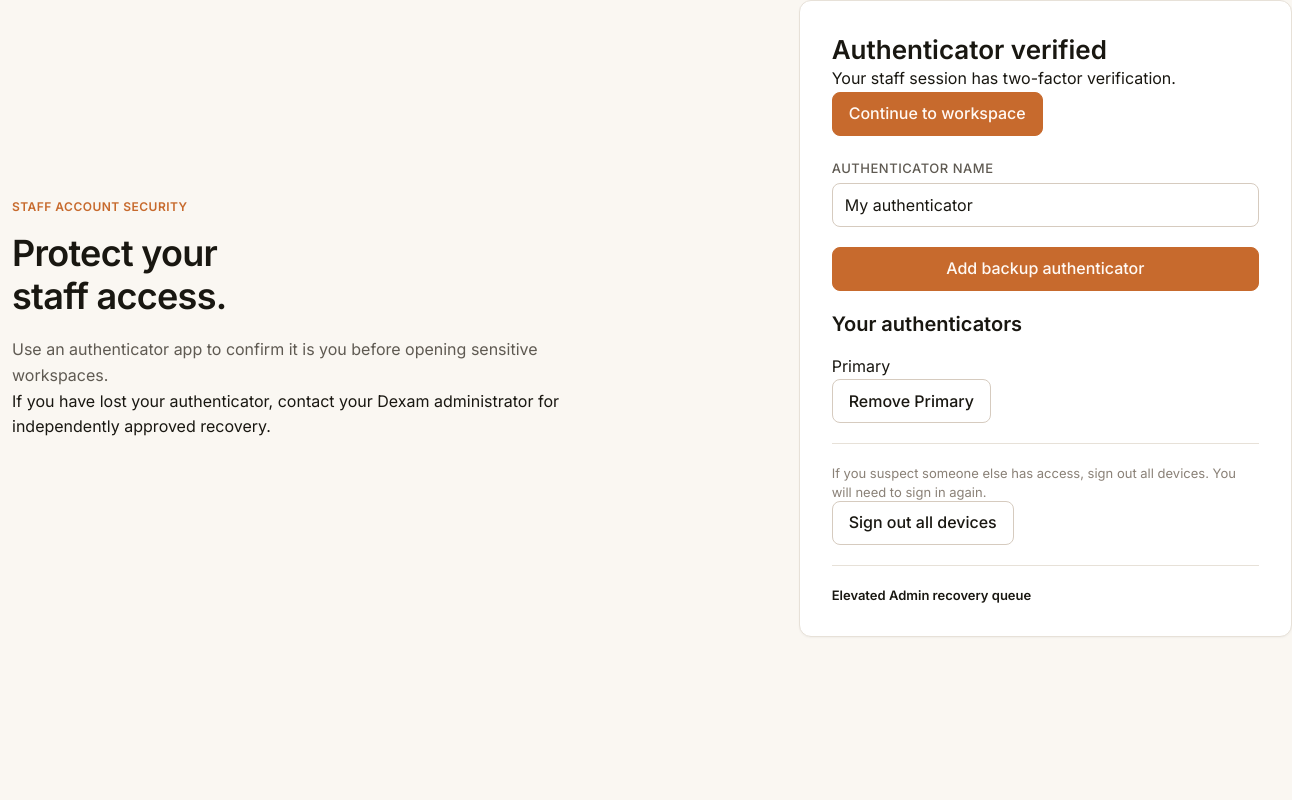
staff authenticator screen › presents a final-factor guard error without hiding the factor
Click the button "Remove Primary" at (911, 401), box [832,379,991,423]
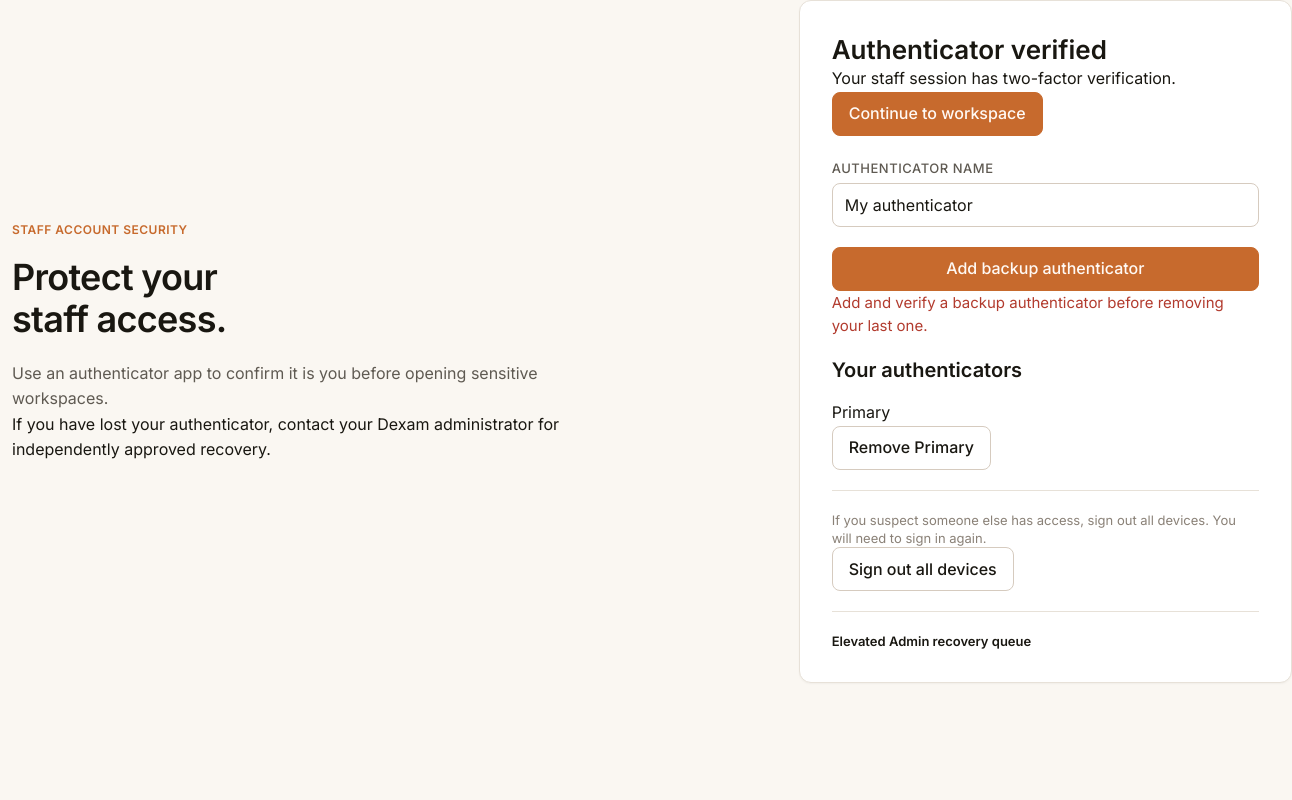
Check: the text "Primary" is shown, box [832,402,890,422]
Check: the message "Add and verify a backup authenticator before removing your last one." is shown, box [832,291,1259,337]
